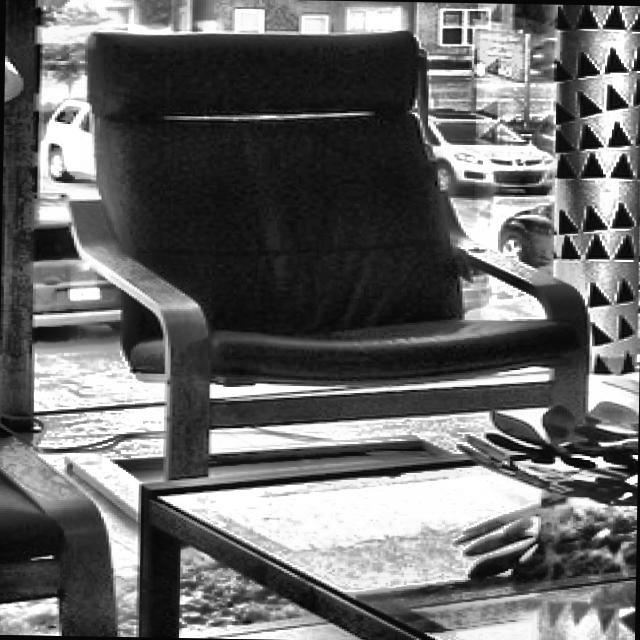chair: (57, 22, 595, 501)
